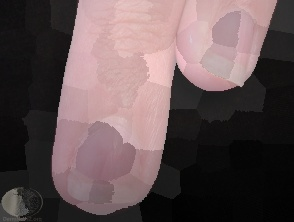Nail_psoriasis: (61, 101, 155, 215), (175, 0, 269, 95)
